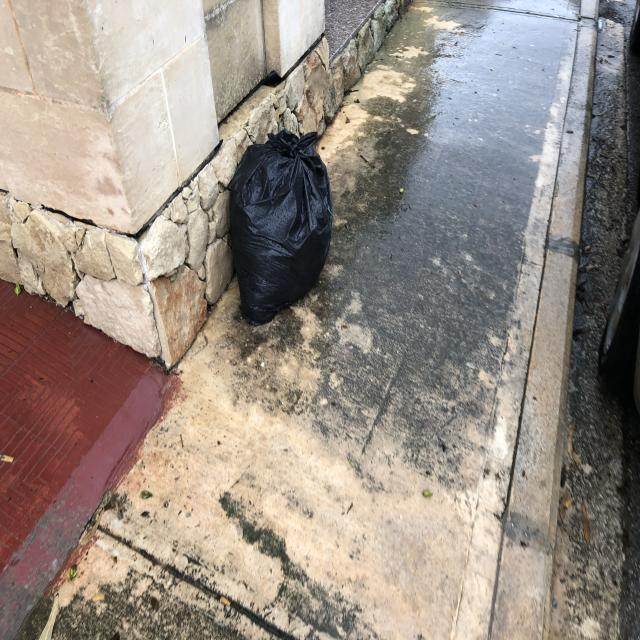Mixed Waste -Black Bag-: (228, 131, 332, 329)
